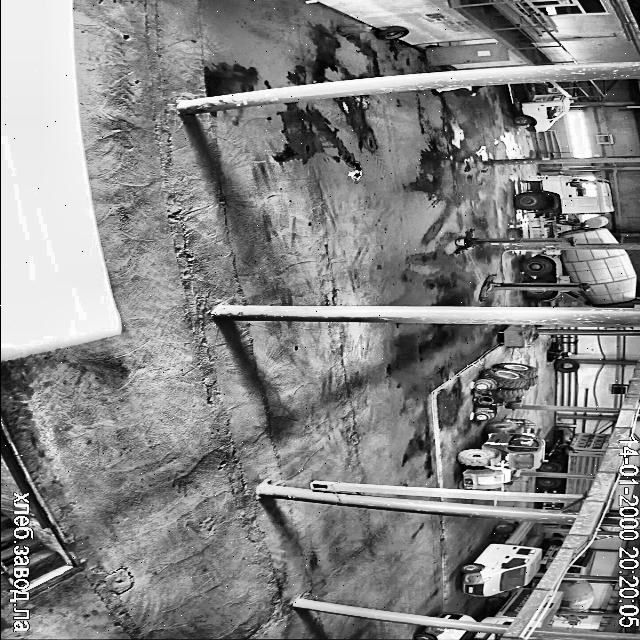car lift: (455, 229, 575, 253), (479, 274, 588, 300)
mechanic: (434, 86, 484, 95)
tractor: (459, 418, 544, 489), (475, 362, 538, 420)
truck: (516, 176, 616, 244), (522, 248, 636, 306), (462, 521, 540, 596), (539, 433, 611, 473), (512, 84, 570, 132), (487, 588, 532, 621), (413, 626, 498, 640), (557, 580, 594, 611), (538, 477, 592, 494), (538, 592, 562, 627), (567, 548, 595, 574), (541, 537, 563, 567), (542, 500, 579, 510), (439, 612, 468, 620), (564, 616, 581, 623)
